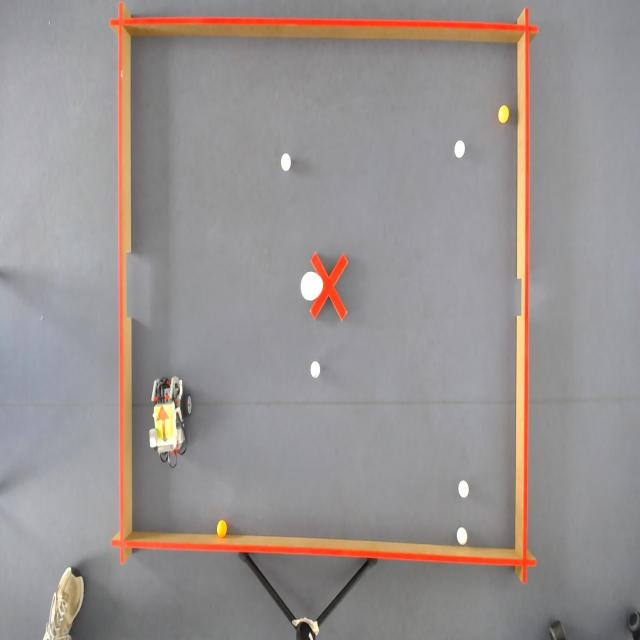cross: (308, 250, 349, 321)
egg: (300, 269, 324, 303)
orange_ball: (498, 103, 510, 126), (216, 518, 228, 540)
robot: (154, 402, 173, 443)
white_ball: (455, 524, 468, 548), (453, 138, 466, 161), (457, 477, 470, 500), (309, 358, 322, 381), (280, 150, 292, 174)
